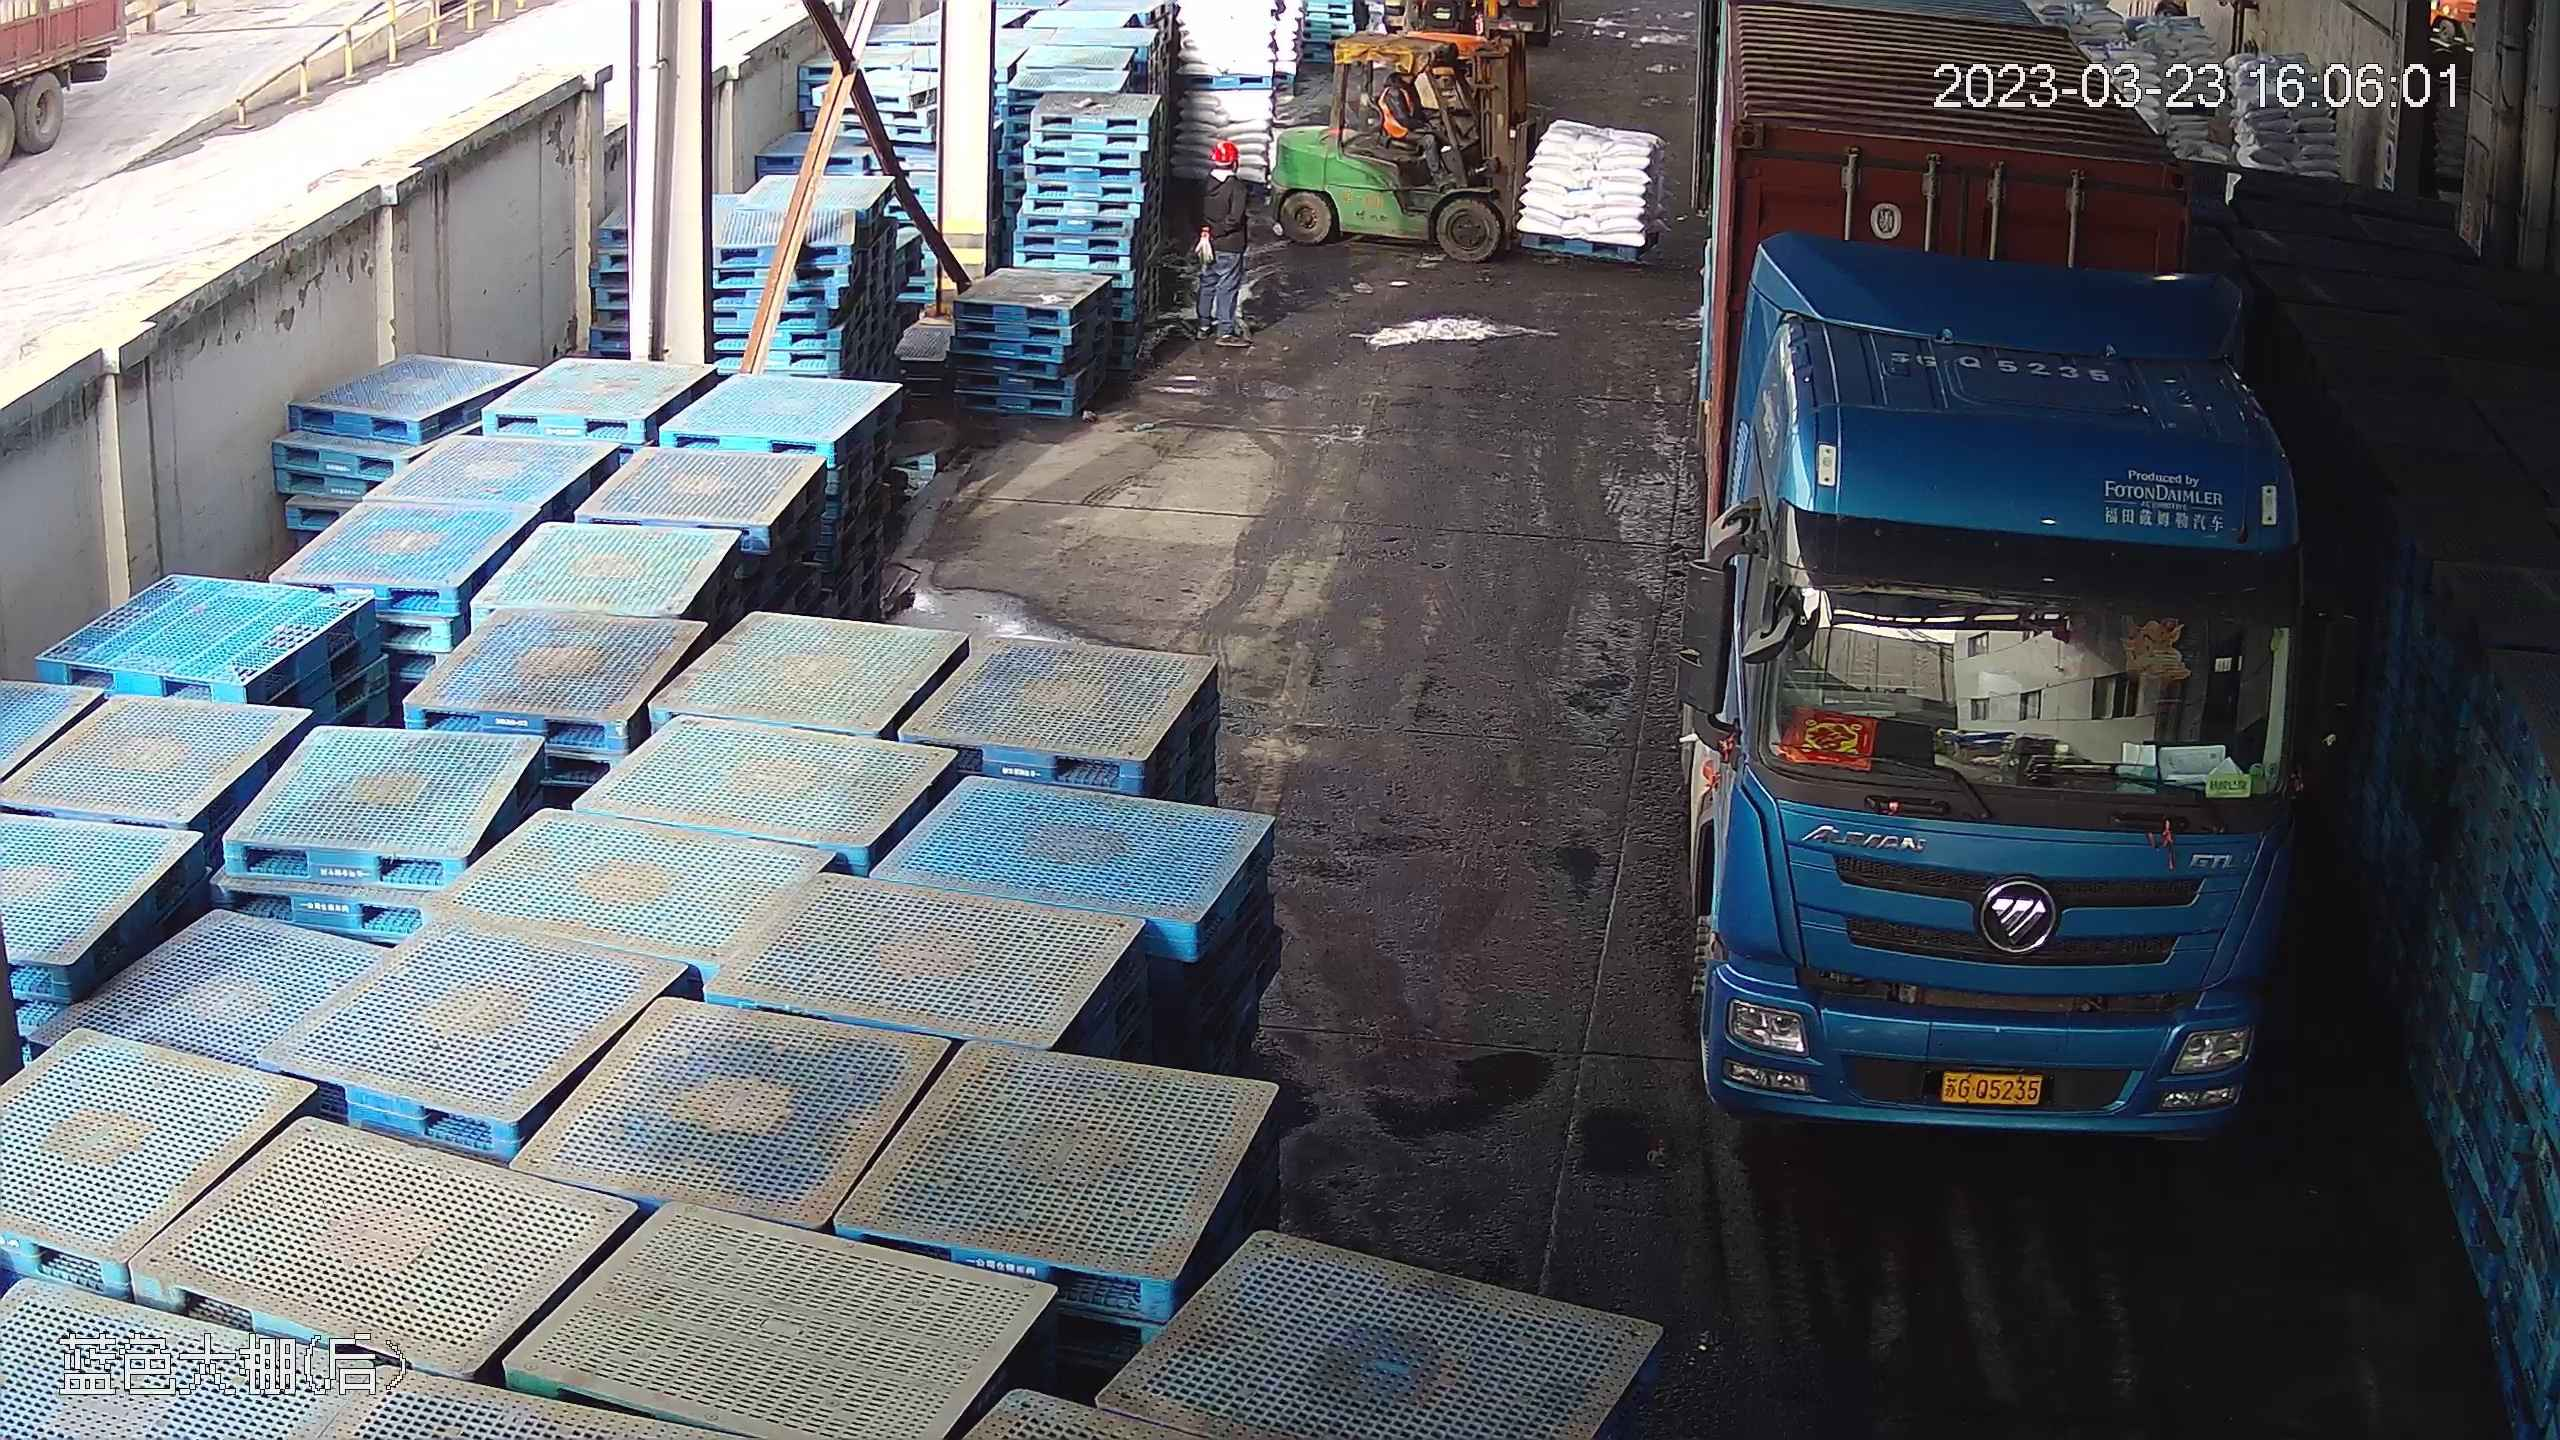head: (1199, 139, 1251, 204)
helmet: (1206, 140, 1243, 165)
people: (1188, 138, 1256, 350), (1361, 50, 1440, 172)
truck: (1672, 30, 2349, 1142)
